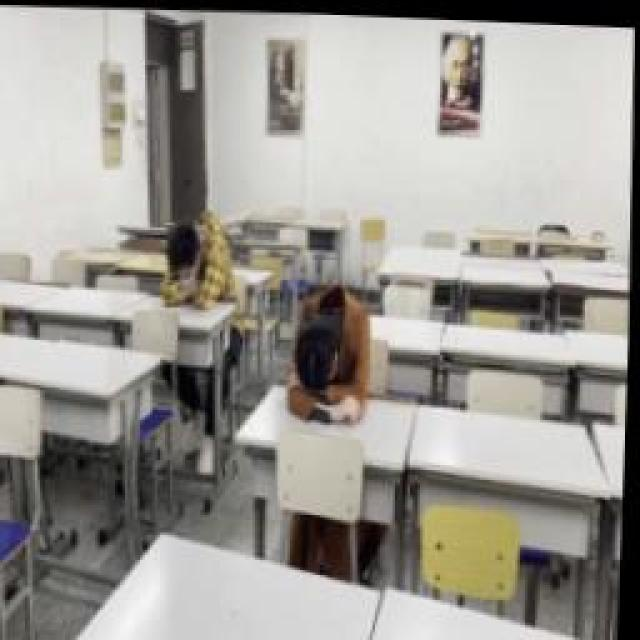sleep: (290, 280, 375, 422), (160, 205, 242, 310)
